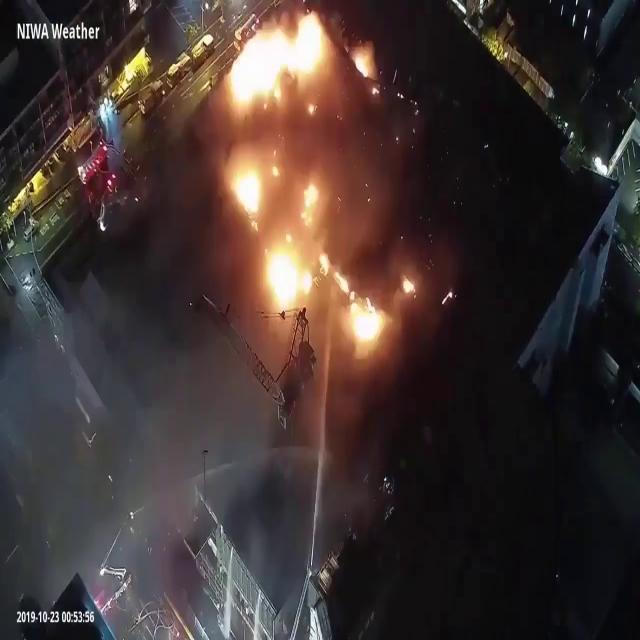fire: (226, 36, 384, 350)
